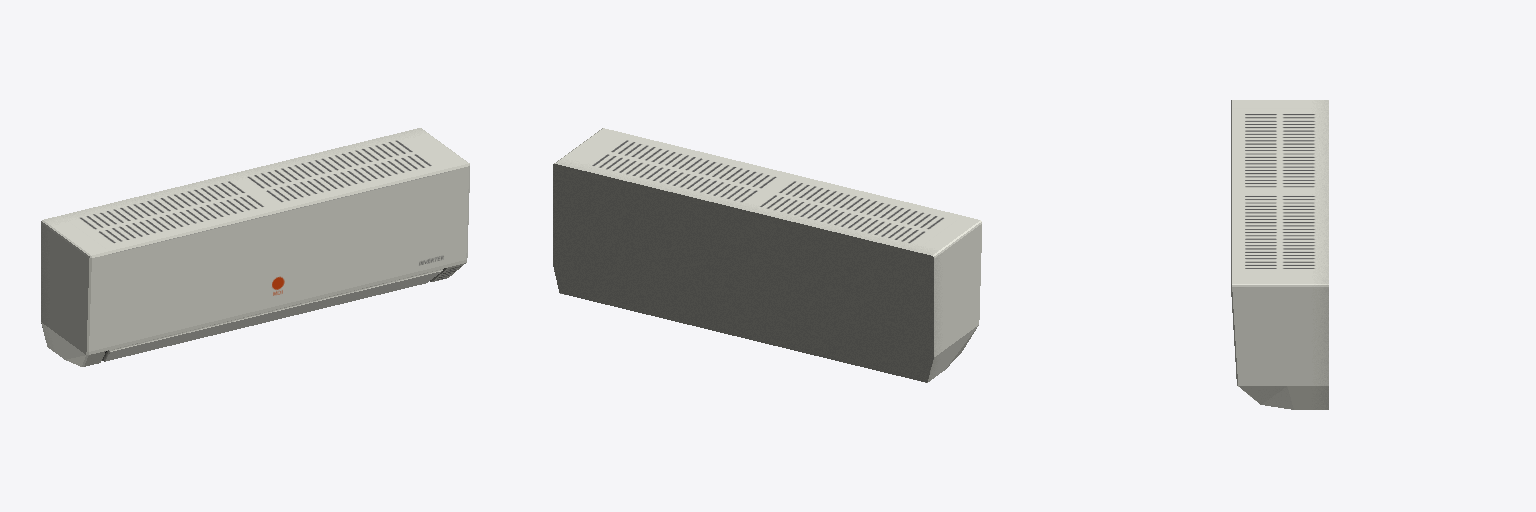
3 views of the same model, side by side, from view 1: azimuth 30°, elevation 25°; view 2: azimuth 150°, elevation 25°; view 3: azimuth 270°, elevation 25° (orthographic).
Visible parts, largest first — view 1: internal-unit_Cube.001; view 2: internal-unit_Cube.001; view 3: internal-unit_Cube.001.
Part boxes in pixels (bbox=[...]): internal-unit_Cube.001: bbox=[41, 128, 469, 366]; internal-unit_Cube.001: bbox=[553, 128, 981, 382]; internal-unit_Cube.001: bbox=[1231, 100, 1328, 409].
Size of the model in its own units: 88.5 by 28.5 by 19.77.
Materials: 1 (1 with a texture image).